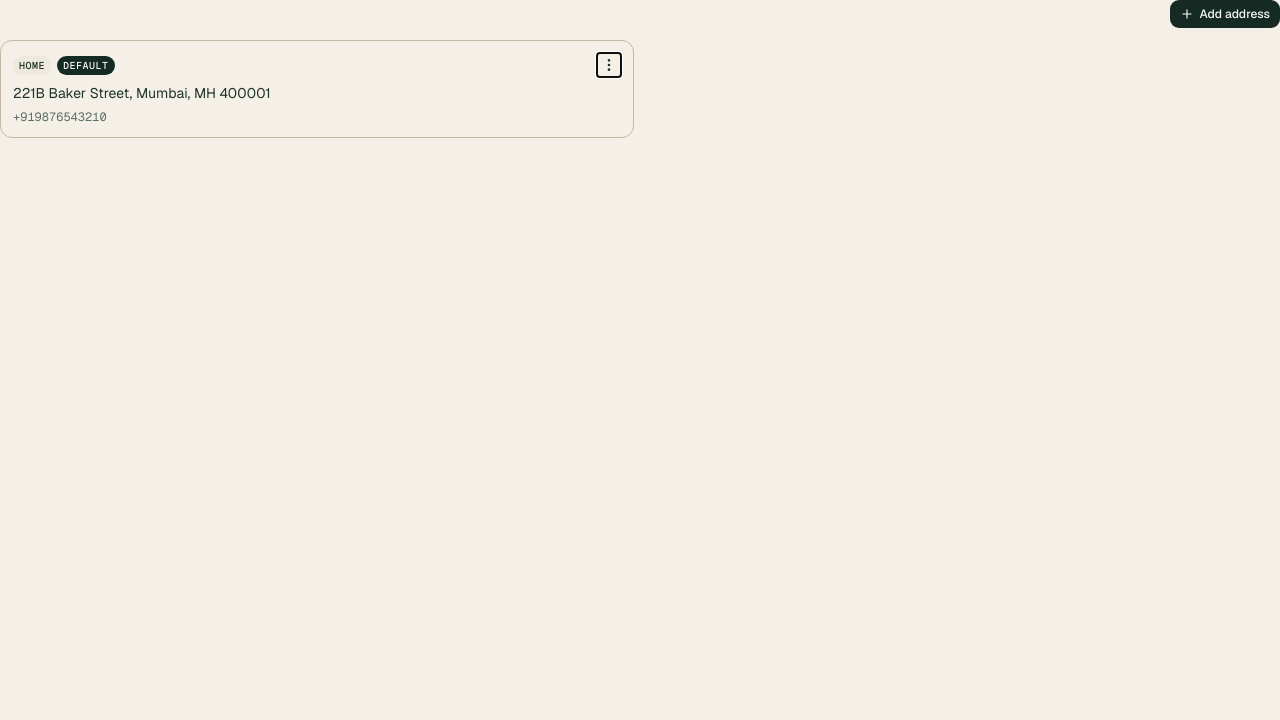
Test case: AddressBook › prefills the phone without the +91 prefix when editing
Press Enter
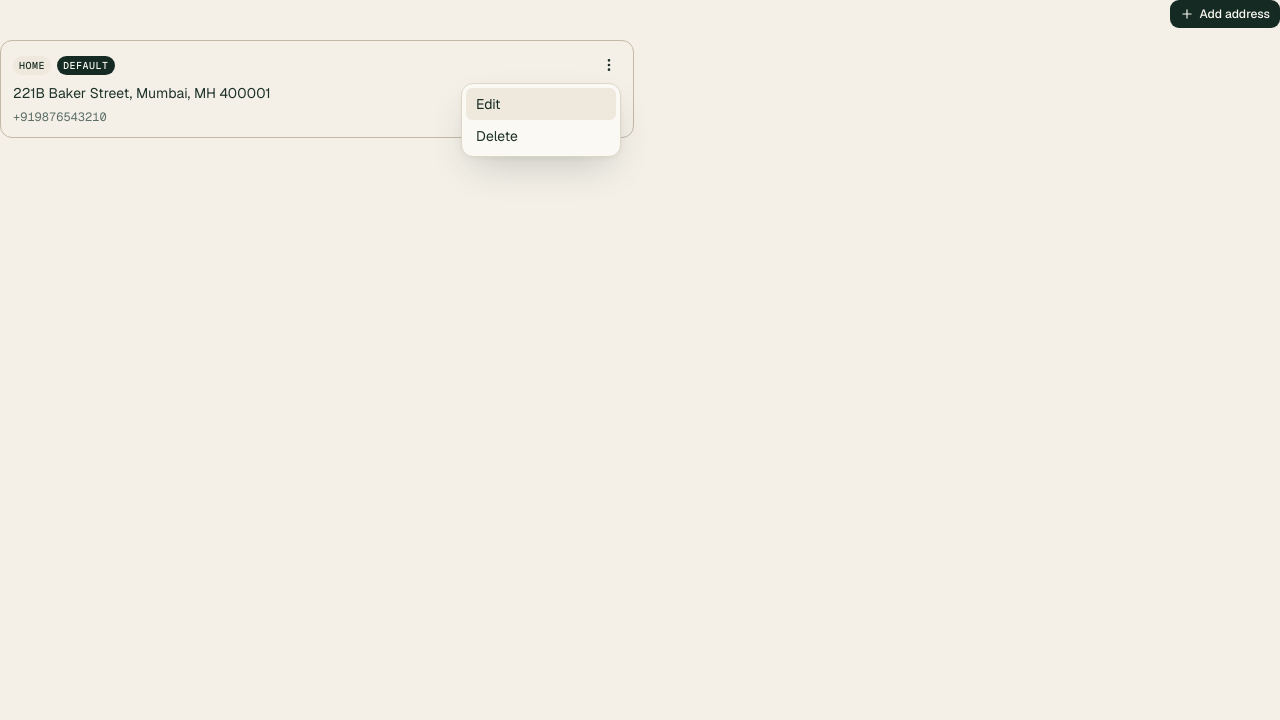
Click the menu item "Edit": point(541, 104) [466,88,616,120]
(page scrolled)
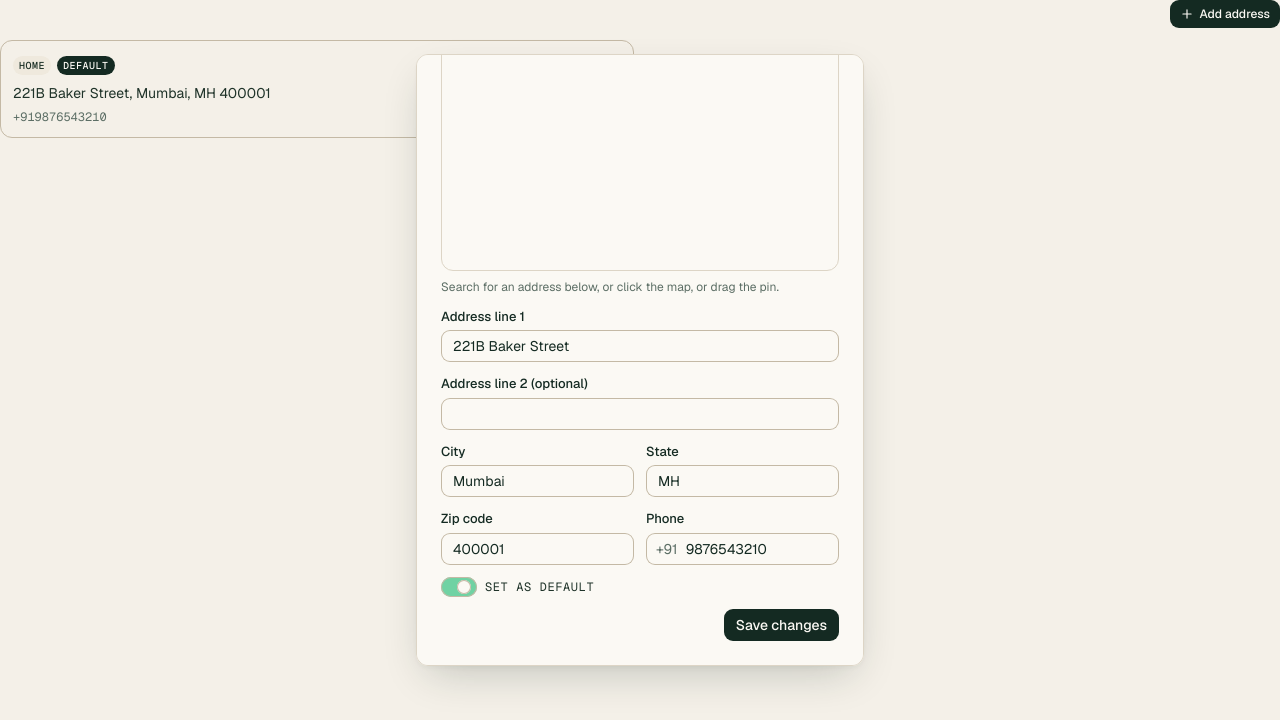
Result: the field labelled "Phone" holds "9876543210" at [646,532,839,564]
